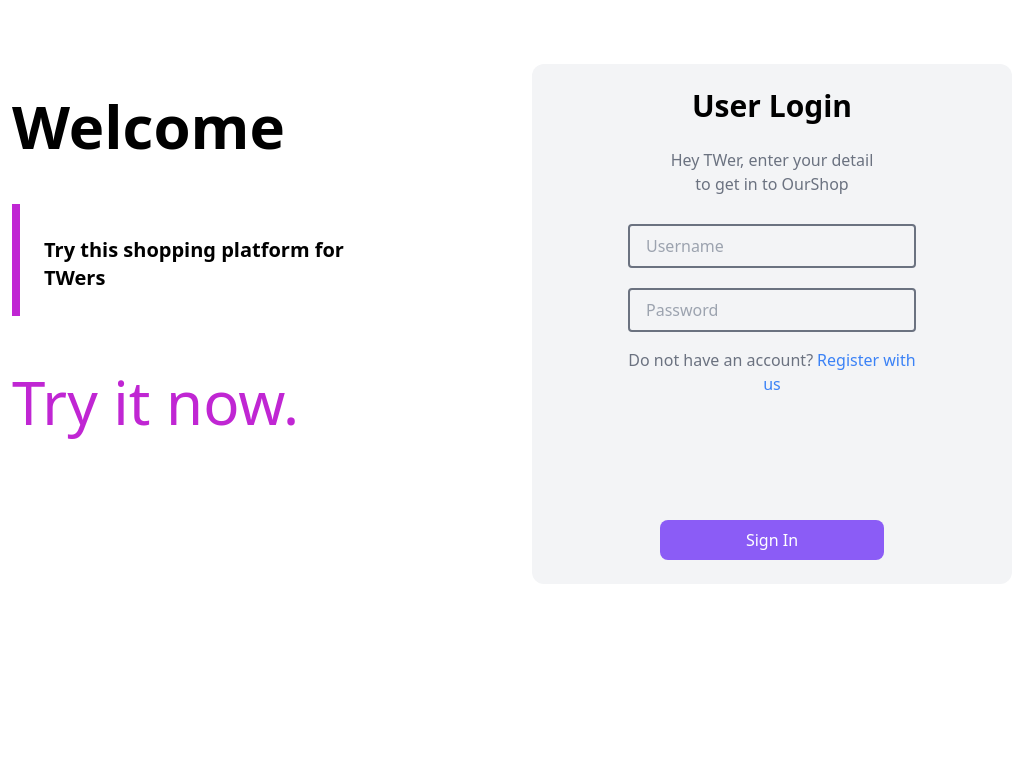
it: display login page › should show error tips when password is missing
The image size is (1024, 768).
In the field with test id "username": (772, 246) [628,224,916,268], type "111"
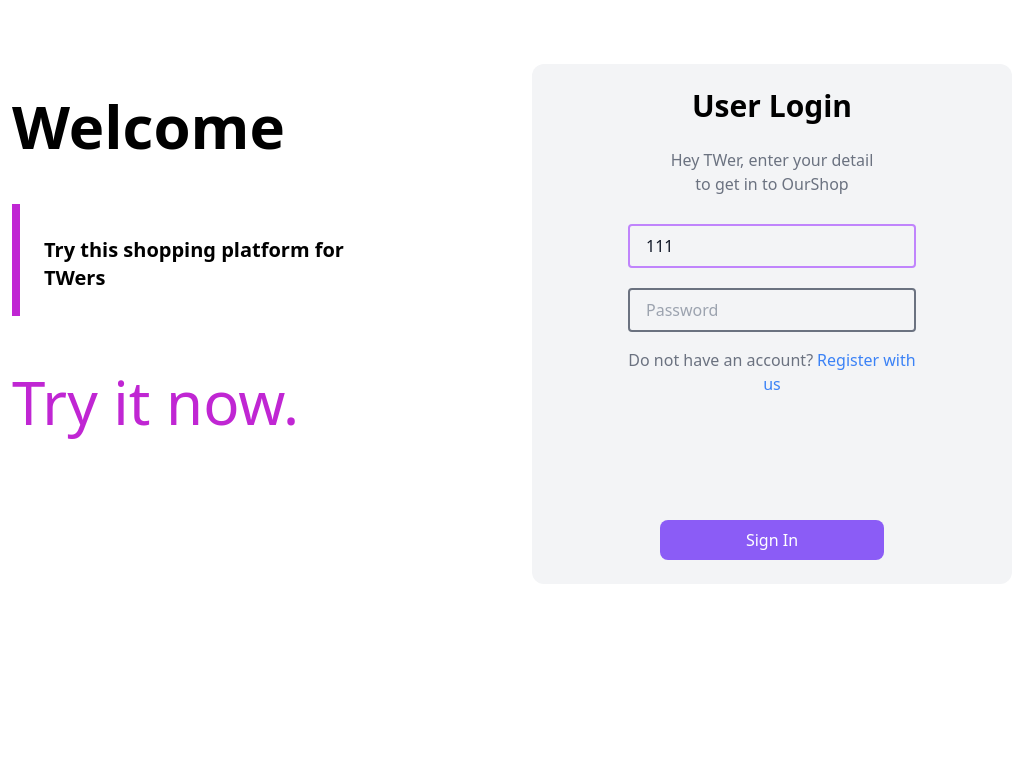
Click the button with test id "login-btn": (772, 540) [660,520,884,560]
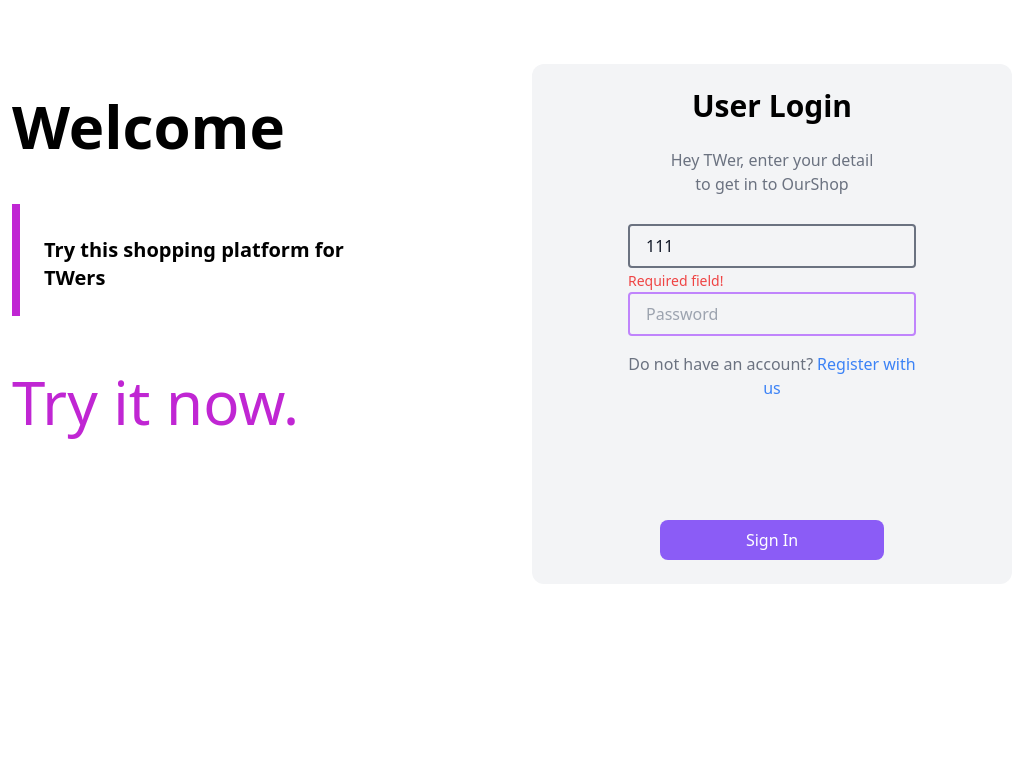
Now the message "Required field!" is shown, box [628,271,724,290]
